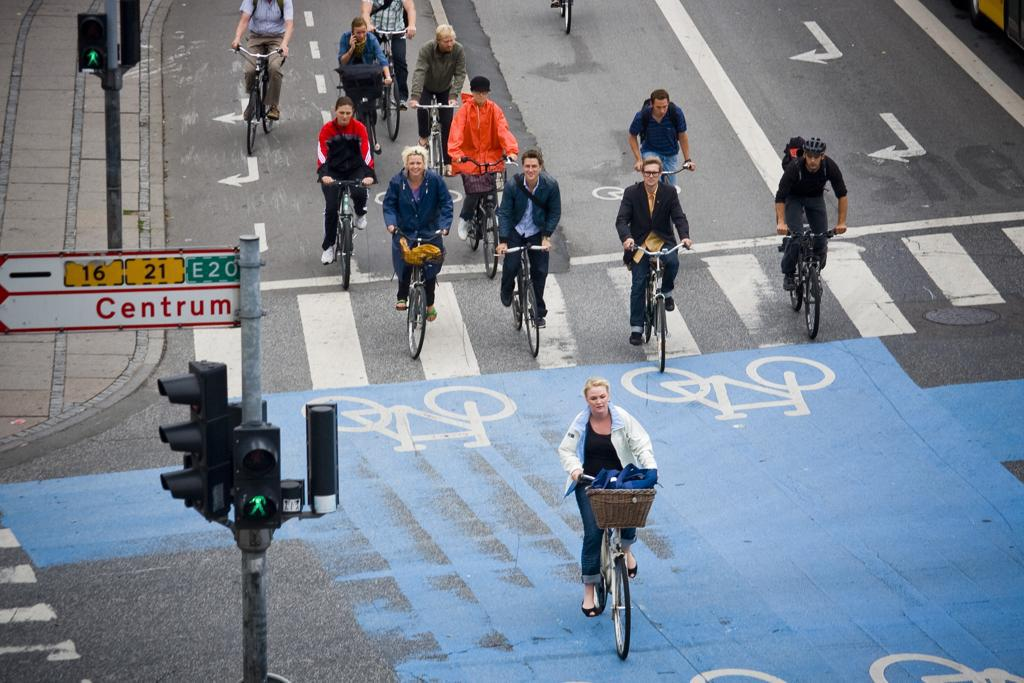face: (589, 389, 608, 413), (524, 159, 539, 179), (409, 156, 424, 176), (645, 165, 659, 186), (337, 108, 353, 125), (807, 151, 822, 169), (474, 86, 488, 105), (655, 100, 669, 118), (441, 33, 455, 51), (354, 27, 366, 42)
